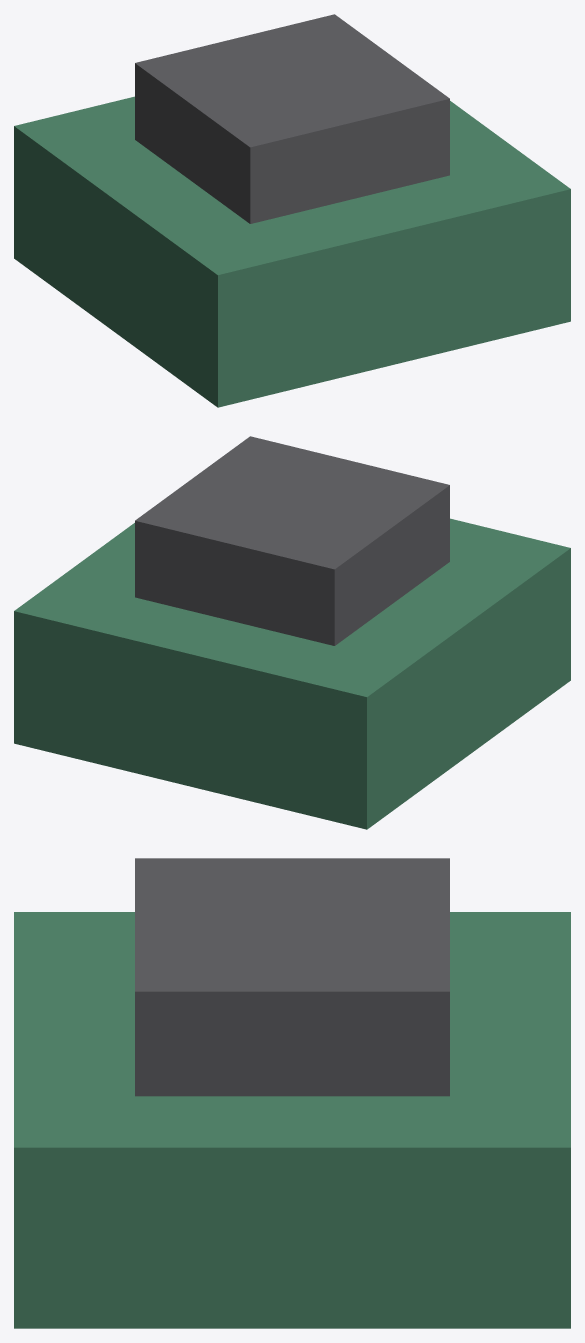
The picture shows the model from 3 angles, top to bottom: view 1: azimuth 30°, elevation 25°; view 2: azimuth 150°, elevation 25°; view 3: azimuth 270°, elevation 25°; orthographic projection. The views are drawn at different scales.
Parts seen in each view (by area): view 1: w25q128-pcb, w25q128-ic; view 2: w25q128-pcb, w25q128-ic; view 3: w25q128-pcb, w25q128-ic.
Boxes of the visible parts, left/top/right/bottom form: w25q128-pcb: left=14, top=96, right=570, bottom=407; w25q128-ic: left=135, top=14, right=449, bottom=223; w25q128-pcb: left=14, top=518, right=570, bottom=829; w25q128-ic: left=135, top=436, right=449, bottom=645; w25q128-pcb: left=14, top=912, right=570, bottom=1328; w25q128-ic: left=135, top=858, right=449, bottom=1096.
Bounding box in the file's own units: 0.0053 × 0.003 × 0.0053.
